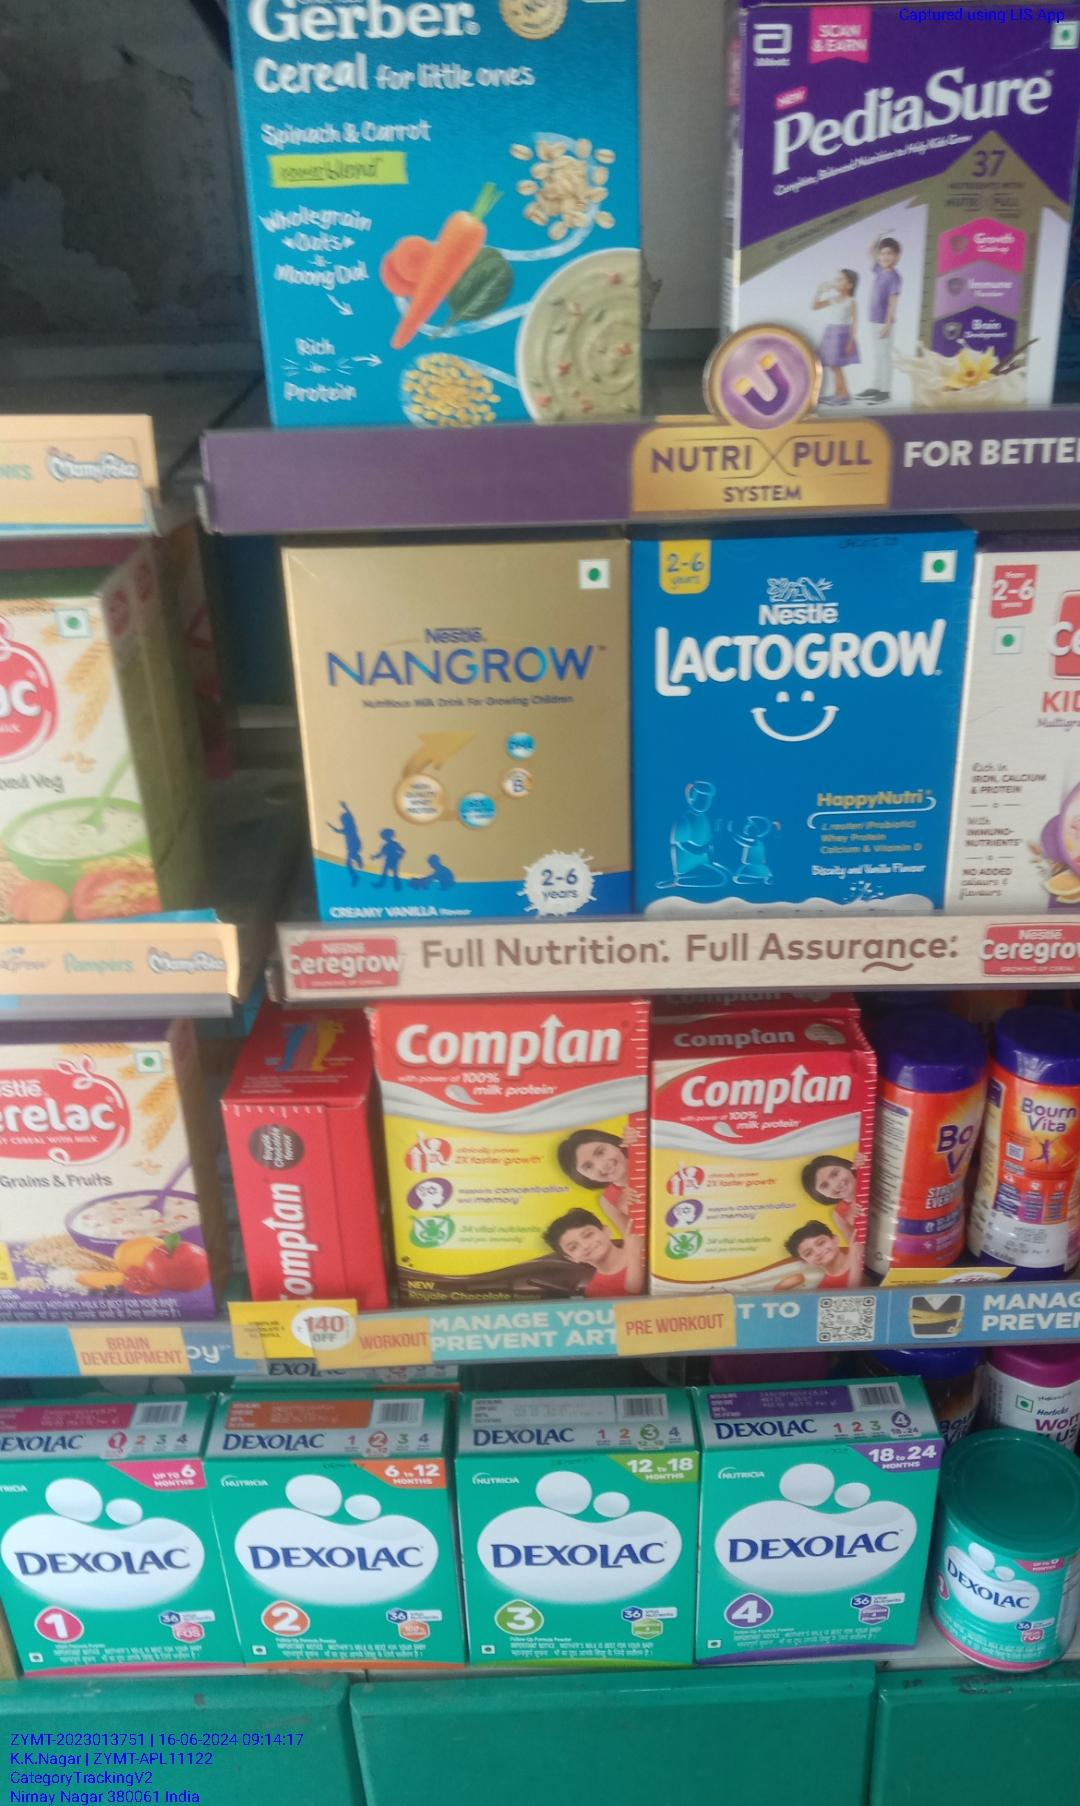BOURN_VITA_200_G_JAR: (879, 1041, 975, 1265)
COMPLAN_KESAR_BADAM_200_GMS_PACK: (654, 1054, 865, 1298)
PEDIASURE_VANILLA_500_G_PACK: (738, 14, 1066, 332)
